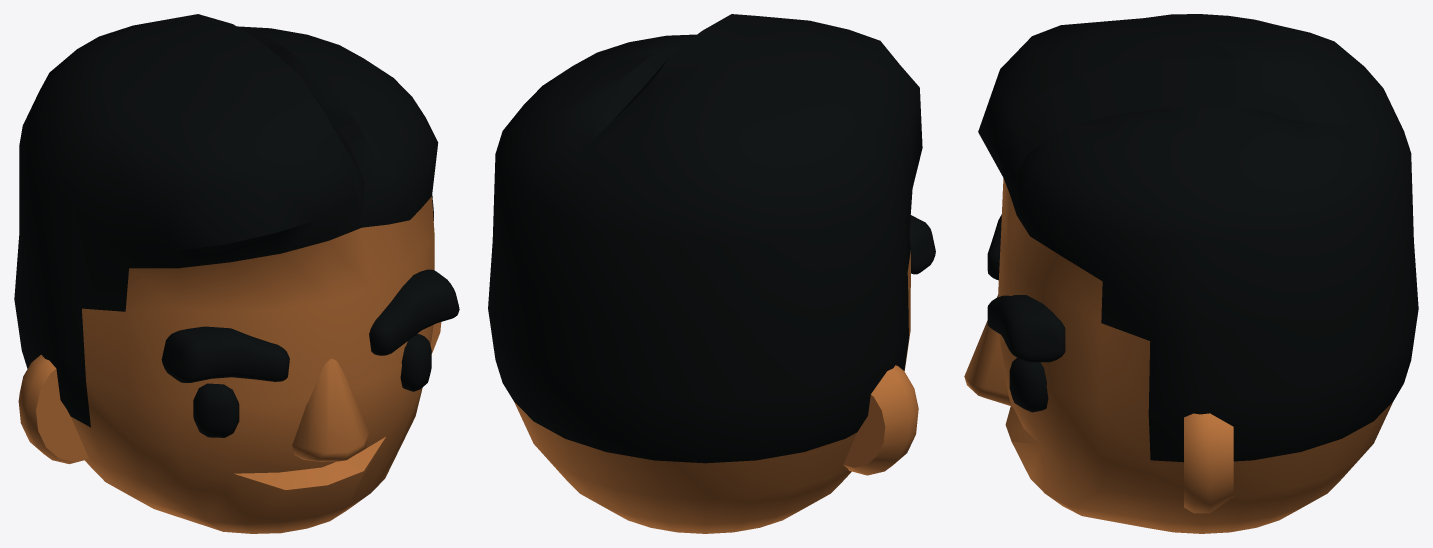
Rendered from head_male_03.fbx.
3 views of the same model, side by side, from view 1: azimuth 30°, elevation 25°; view 2: azimuth 150°, elevation 25°; view 3: azimuth 270°, elevation 25° (orthographic).
Visible parts, largest first — view 1: head_male_03; view 2: head_male_03; view 3: head_male_03.
Part boxes in pixels (left/top/right/bottom): head_male_03: left=14, top=14, right=459, bottom=533; head_male_03: left=488, top=14, right=935, bottom=533; head_male_03: left=964, top=14, right=1418, bottom=533.
Bounding box in the file's own units: 118 × 119 × 111.
